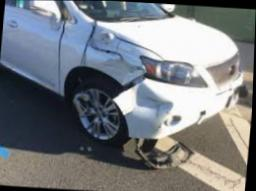Bumper: (114, 77, 199, 168)
Door: (0, 46, 60, 95)
Fender: (60, 21, 162, 85)
